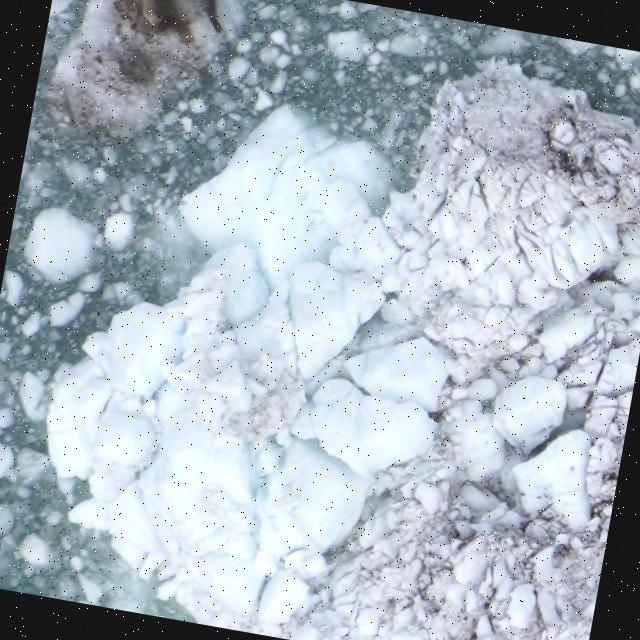seal: (130, 0, 189, 38), (175, 0, 232, 38)
